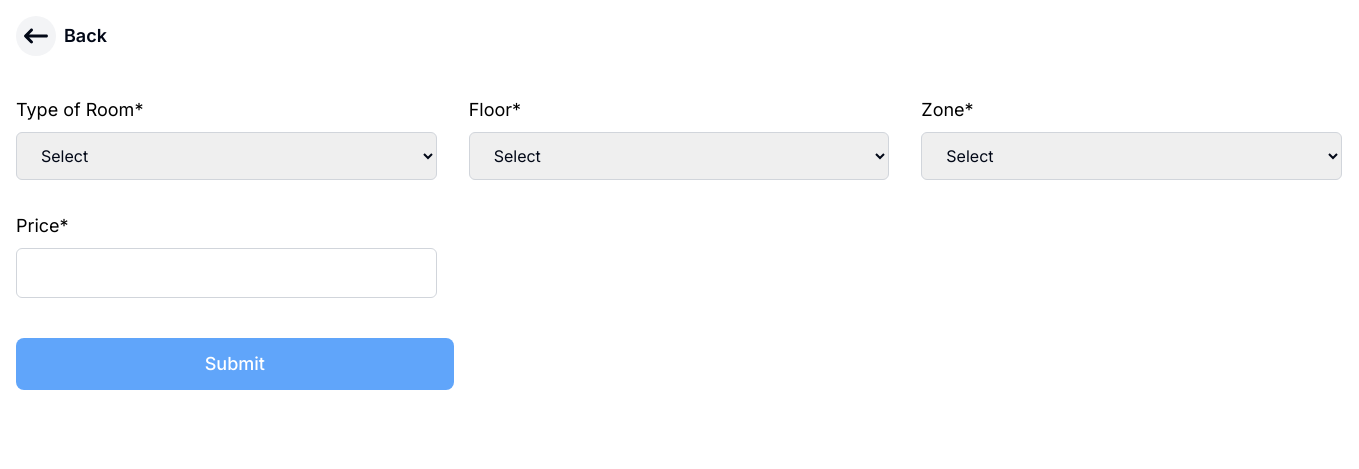
it: AddHotel Component › handles form submission with API error
Select "Single" in the dropdown labelled "Type of Room*": (226, 156) [16,132,437,180]
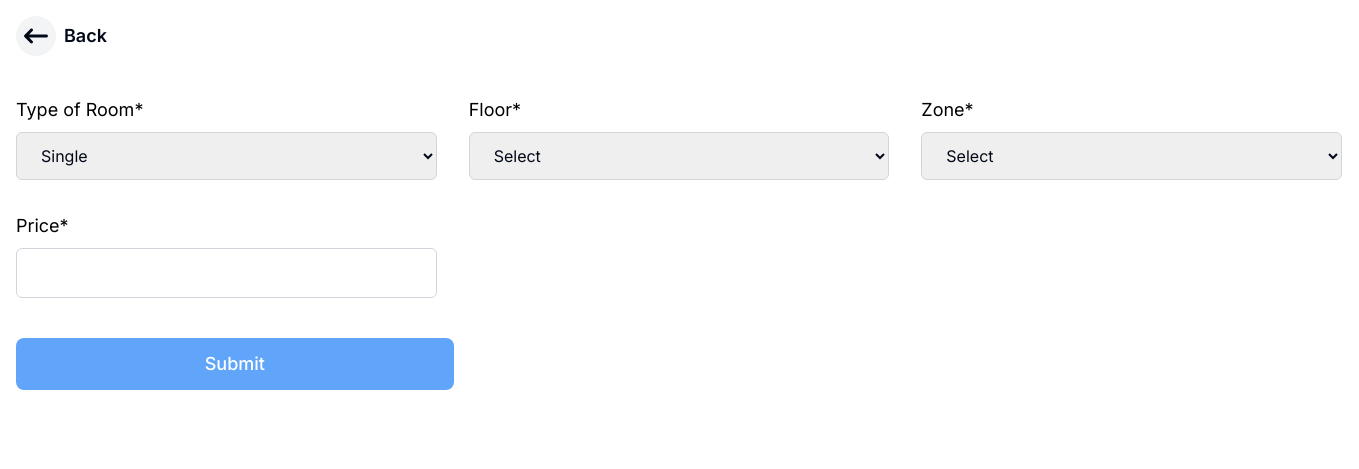
Select "1" in the dropdown labelled "Floor*": (679, 156) [469,132,889,180]
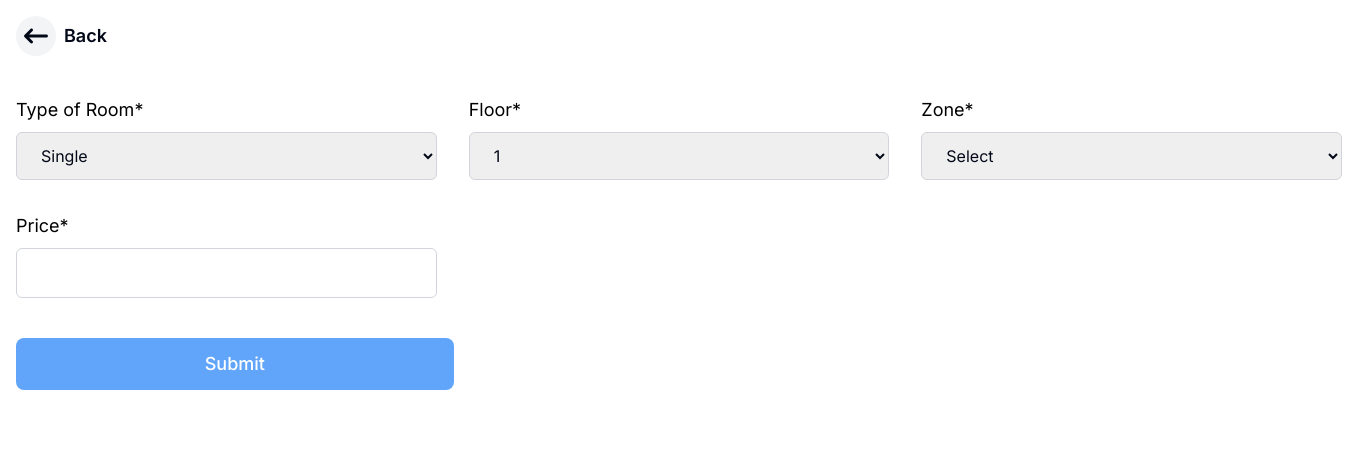
Select "North" in the dropdown labelled "Zone*": (1132, 156) [921,132,1342,180]
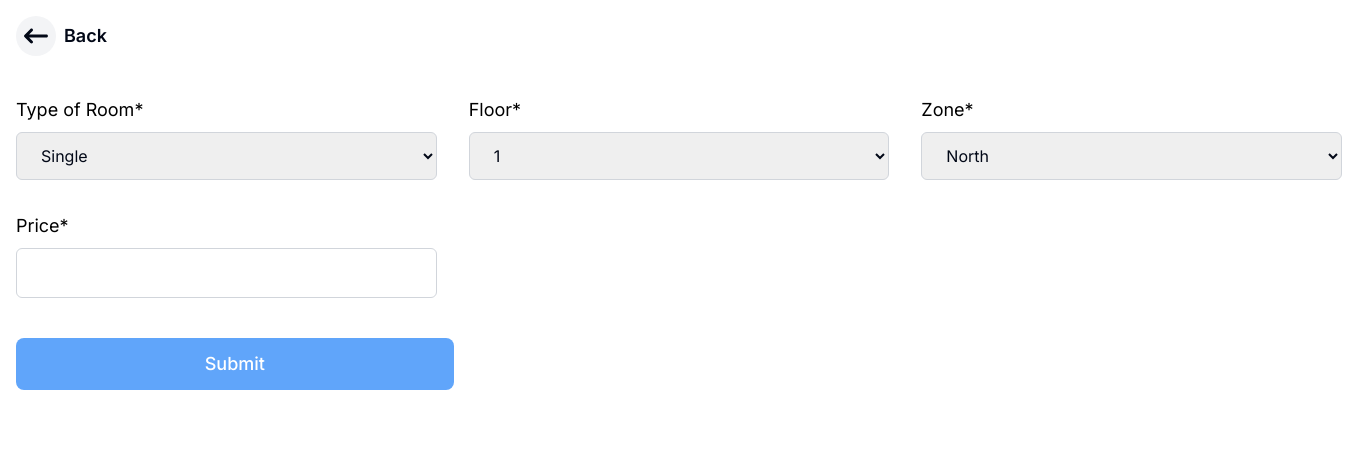
In the field labelled "Price*": (226, 273) [16,248,437,298], type "100"
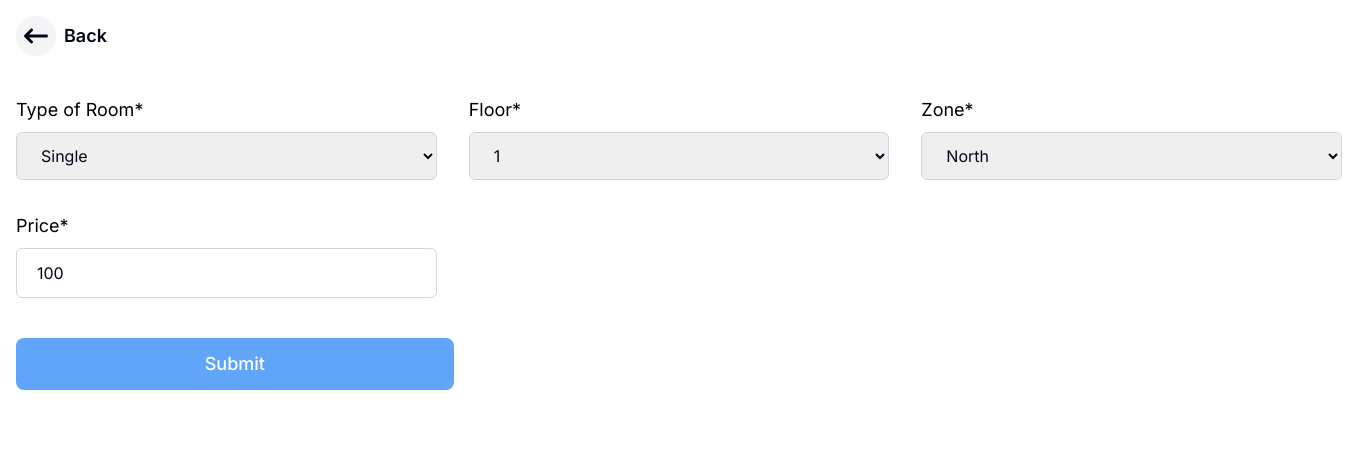
Click the button "Submit": (235, 364) [16,338,454,390]
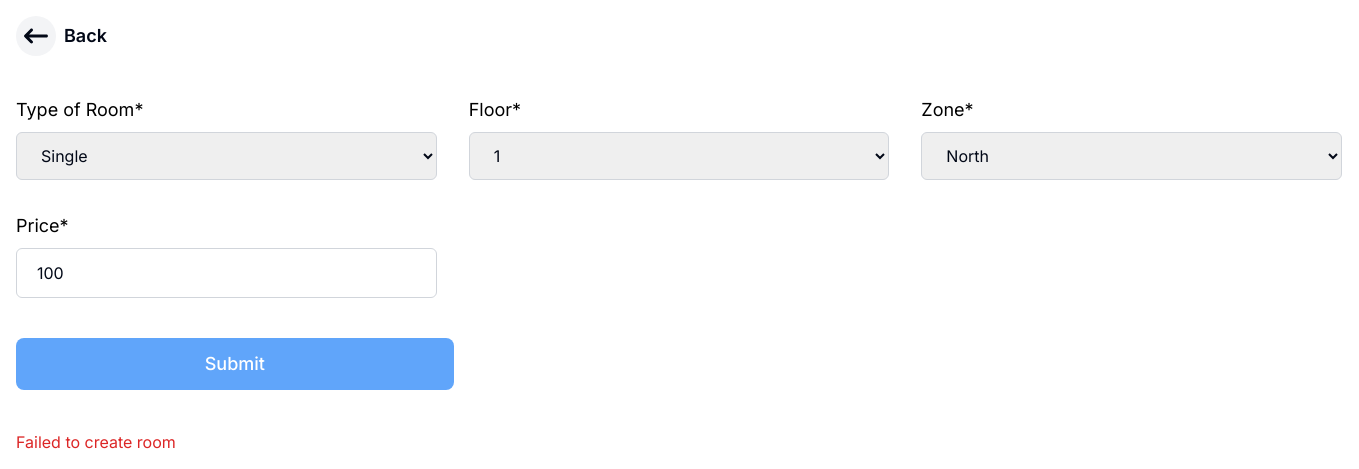
Expected: the text "Failed to create room" is shown, [16,432,176,452]
